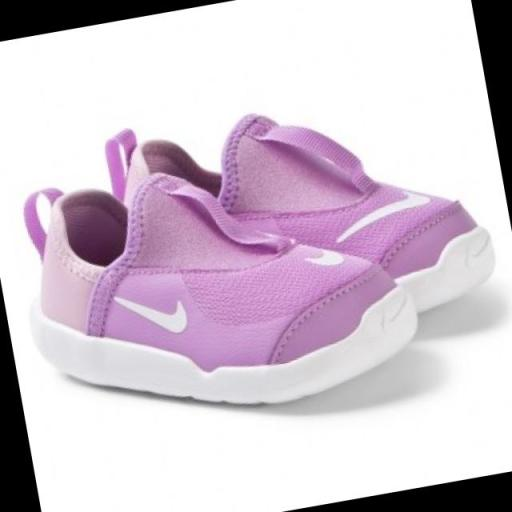Nike: (108, 274, 198, 349)
